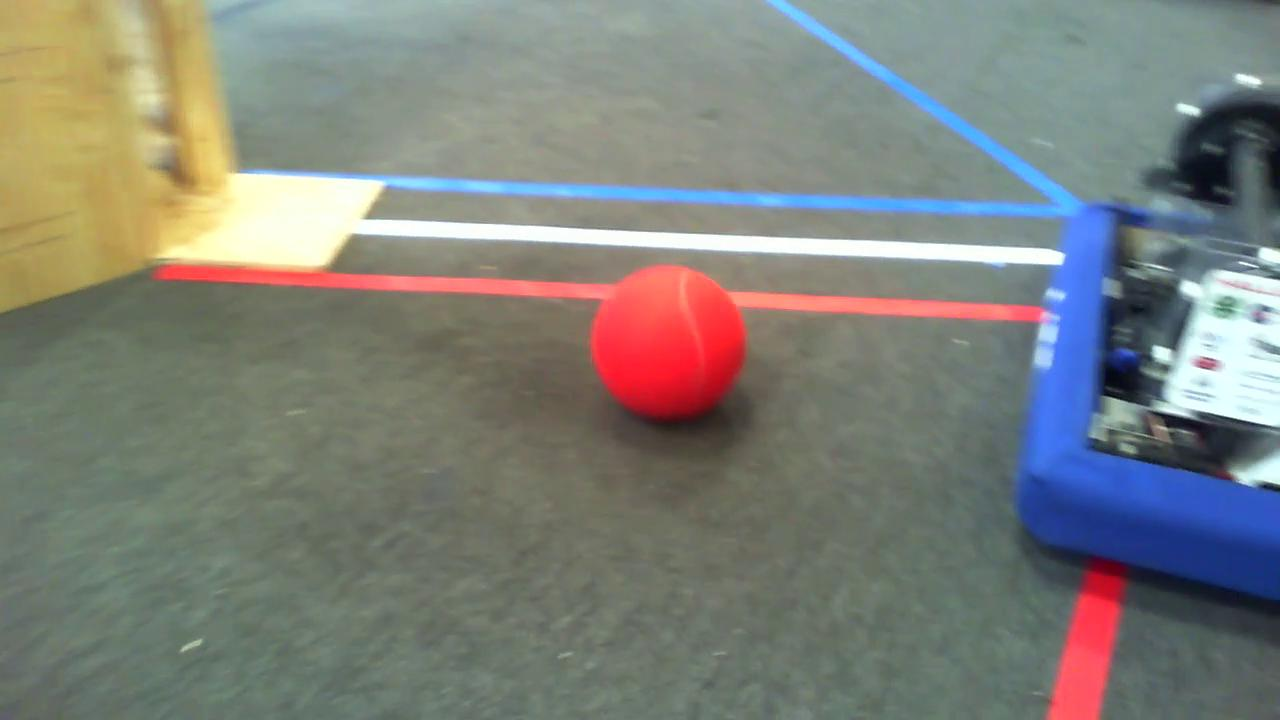Red_Ball: (570, 244, 772, 433)
